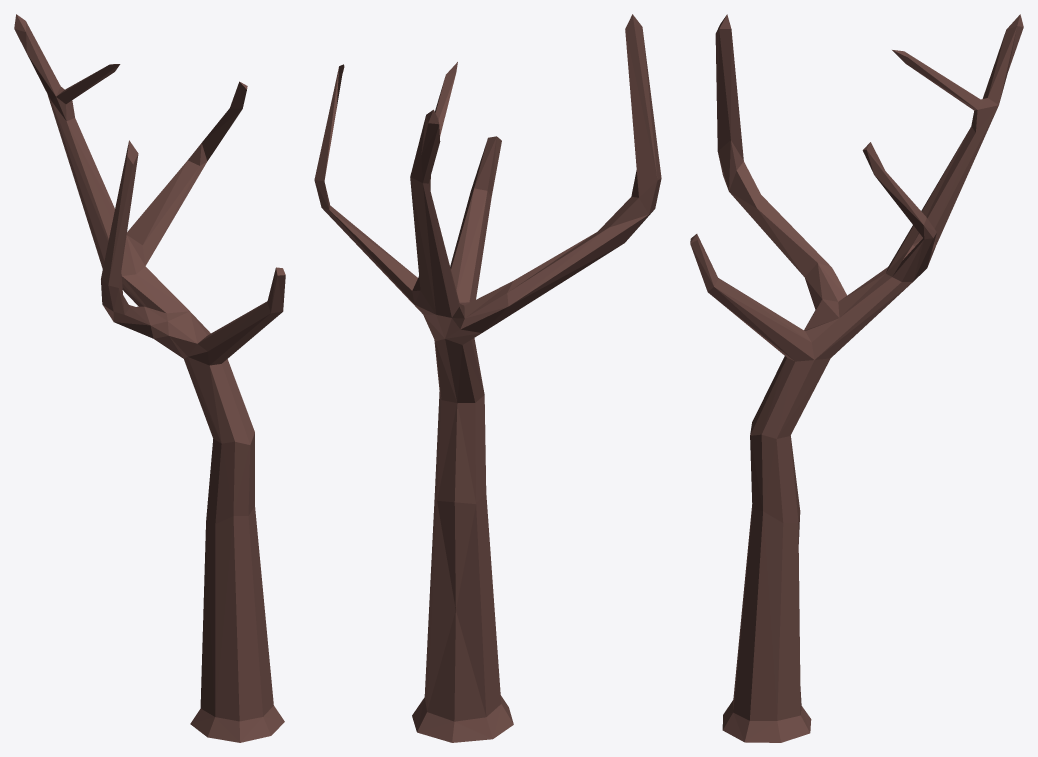
File: CommonTree_Dead_4.lod2.glb
3 renders of one model, left to right at view 1: azimuth 30°, elevation 25°; view 2: azimuth 150°, elevation 25°; view 3: azimuth 270°, elevation 25°, orthographic. The views are drawn at different scales.
Parts seen in each view (by area): view 1: CommonTree_Dead_4; view 2: CommonTree_Dead_4; view 3: CommonTree_Dead_4.
Part boxes in pixels (left/top/right/bottom): CommonTree_Dead_4: left=14, top=14, right=285, bottom=742; CommonTree_Dead_4: left=314, top=14, right=661, bottom=742; CommonTree_Dead_4: left=690, top=14, right=1023, bottom=742.
Size of the model in its own units: 0.8132 by 2.37 by 1.08.
